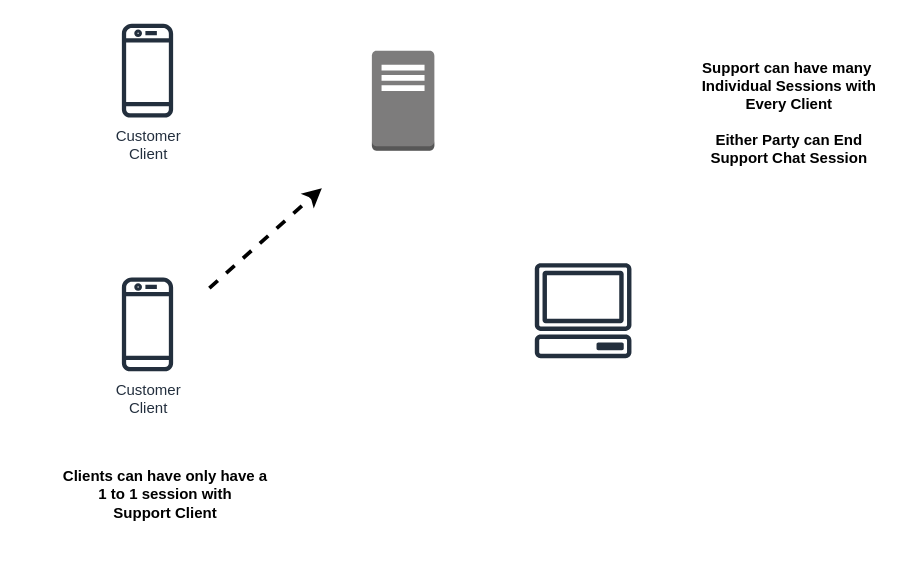
The diagram is 905 pixels wide and 571 high, and some of its shapes have lost their labels. The shapes that lost their labels are listed below. From the top down, each one's box as (x1, y1, x2, y2) in pixels, then its label:
(371, 49, 434, 151): WebSocket Server
(534, 262, 631, 358): Customer Support's Client
